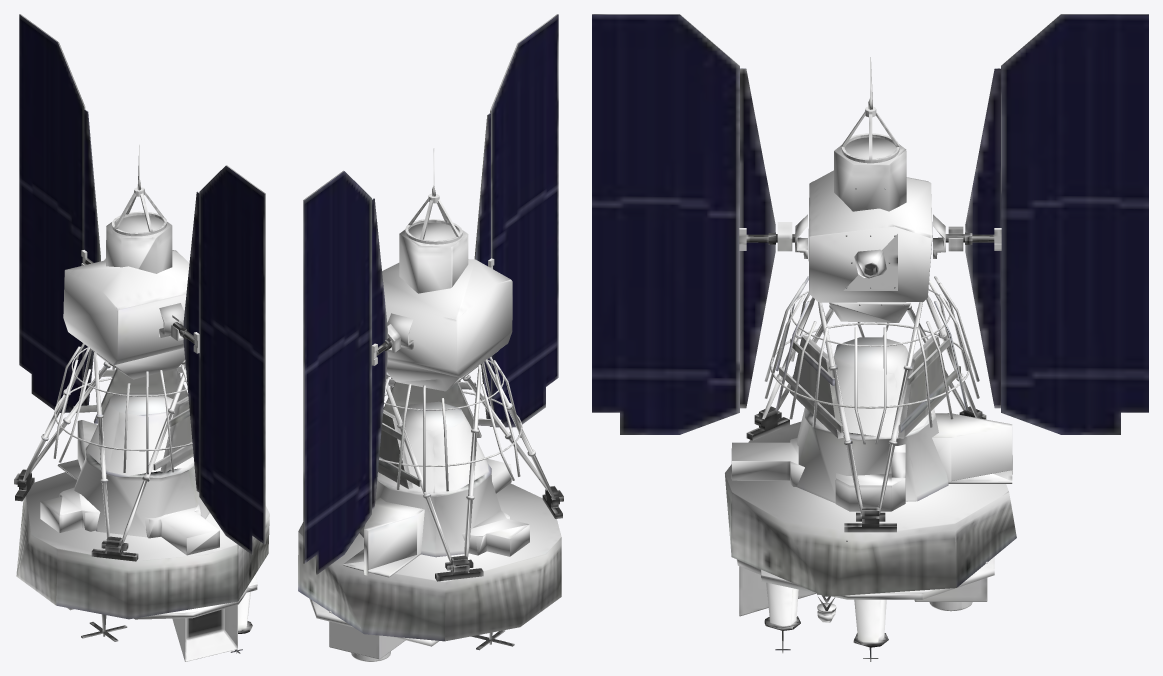
Rendered from landsat-1-2-and-3.glb.
The picture shows the model from 3 angles, left to right: view 1: azimuth 30°, elevation 25°; view 2: azimuth 150°, elevation 25°; view 3: azimuth 270°, elevation 25°; orthographic projection. The views are drawn at different scales.
Visible parts, largest first — view 1: L1_Baked; view 2: L1_Baked; view 3: L1_Baked.
Part boxes in pixels (bbox=[...]): L1_Baked: bbox=[14, 14, 269, 661]; L1_Baked: bbox=[298, 14, 563, 661]; L1_Baked: bbox=[592, 14, 1148, 661].
Size of the model in its own units: 2.02 by 4.58 by 3.81.
1 material, 1 textured.
